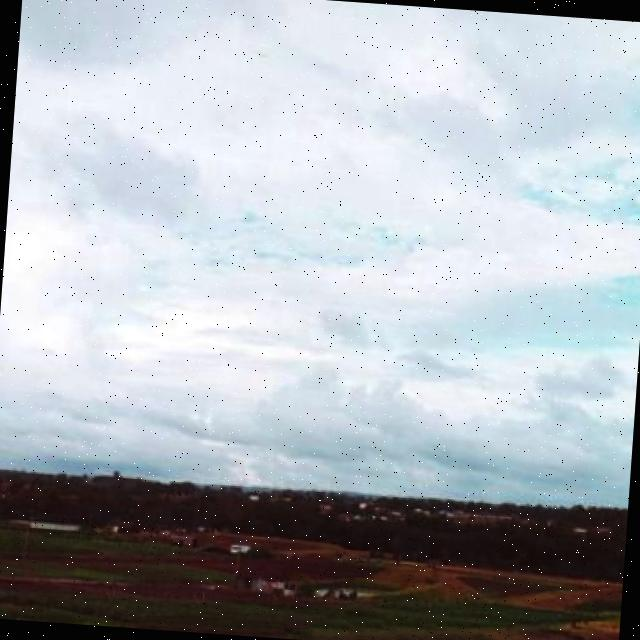Sc: (1, 1, 640, 426)
